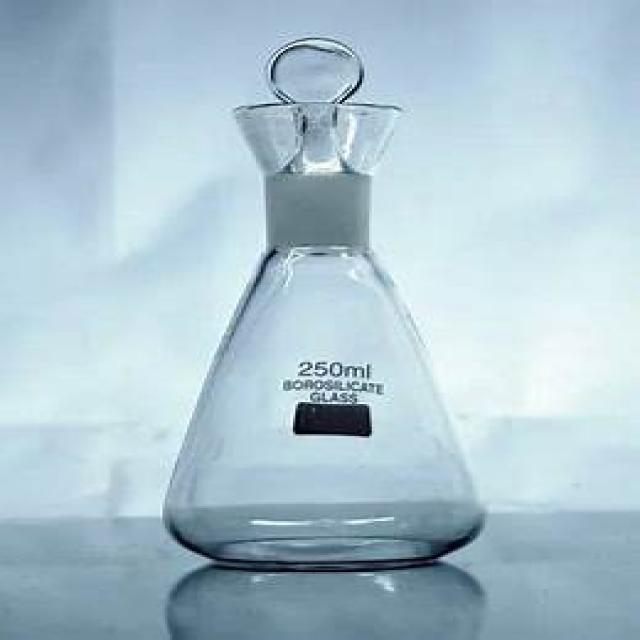Titrarion: (145, 35, 491, 564)
